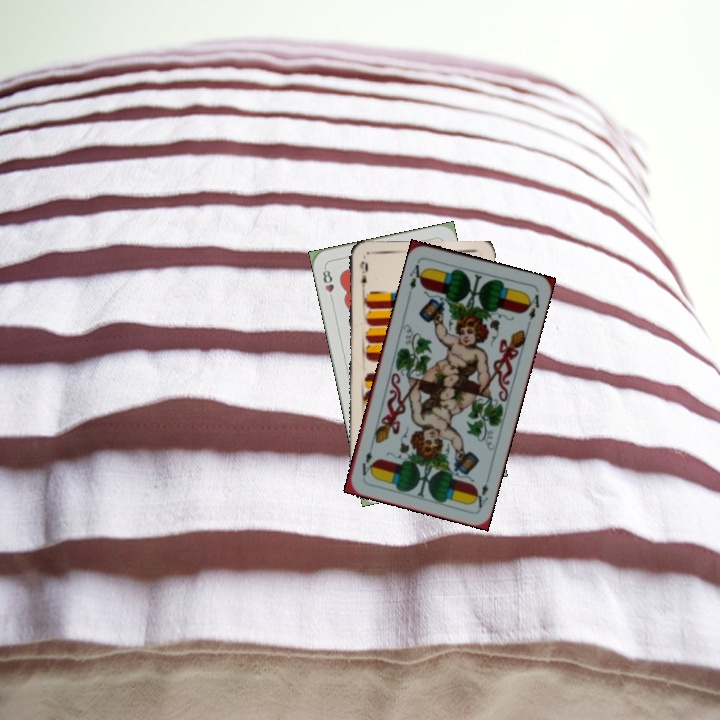E9: (355, 257, 371, 295)
EA: (469, 471, 492, 511), (405, 257, 428, 292)
H8: (318, 263, 337, 303)
